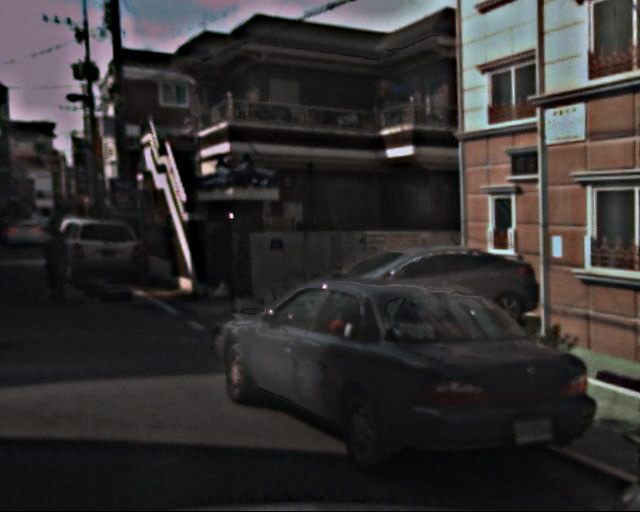person: (43, 226, 73, 300)
